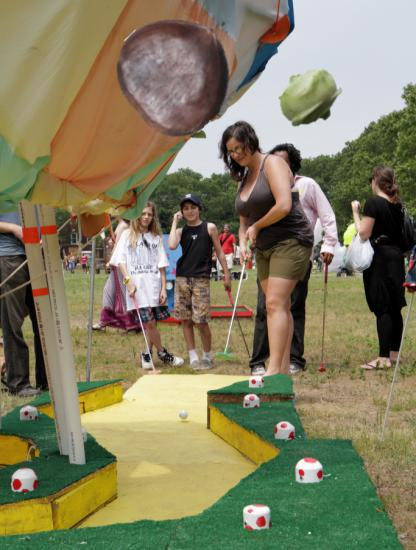Chestnut: (117, 13, 236, 132)
Kohlrabi: (277, 65, 342, 130)
